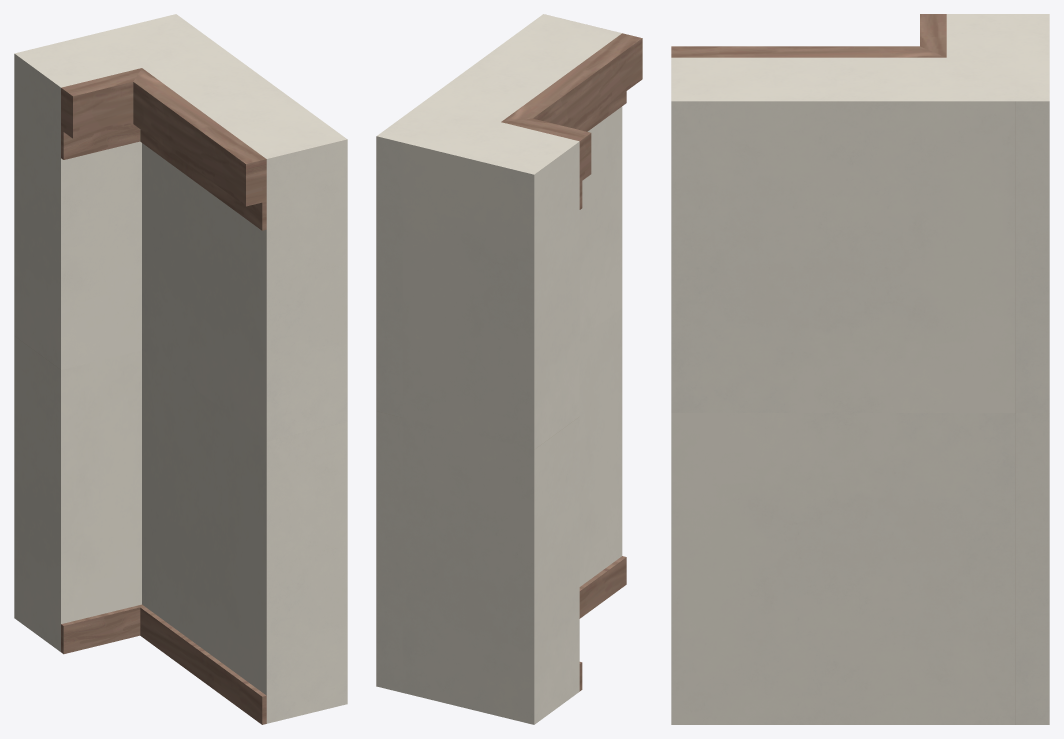
Rendered from RightCornerWall.glb.
3 views of the same model, side by side, from view 1: azimuth 30°, elevation 25°; view 2: azimuth 150°, elevation 25°; view 3: azimuth 270°, elevation 25° (orthographic). The views are drawn at different scales.
Parts seen in each view (by area): view 1: Right Corner Wall; view 2: Right Corner Wall; view 3: Right Corner Wall.
Part boxes in pixels (x1,y1,x2,y2): Right Corner Wall: (14,14,347,724); Right Corner Wall: (376,14,642,724); Right Corner Wall: (671,14,1049,724).
Bounding box in the file's own units: 1.2 × 4 × 2.2.
1 material, 1 textured.
